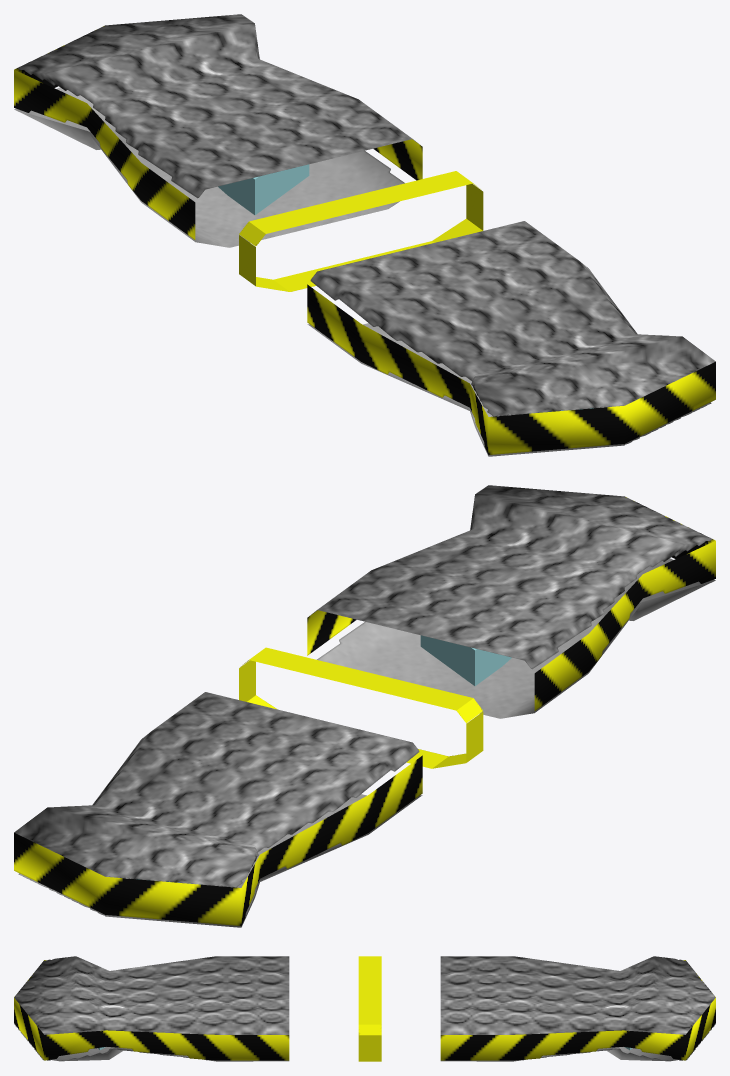
Rendered from platform.fbx.
The picture shows the model from 3 angles, top to bottom: view 1: azimuth 30°, elevation 25°; view 2: azimuth 150°, elevation 25°; view 3: azimuth 270°, elevation 25°; orthographic projection. The views are drawn at different scales.
Parts seen in each view (by area): view 1: RoadKillOut, polySurface2, pCylinder1; view 2: RoadKillOut, polySurface2, pCylinder1; view 3: RoadKillOut, polySurface2.
Part boxes in pixels (x1=…): RoadKillOut: x1=14, y1=14, x2=715, y2=456; polySurface2: x1=239, y1=171, x2=483, y2=291; pCylinder1: x1=218, y1=164, x2=309, y2=214; RoadKillOut: x1=14, y1=485, x2=715, y2=927; polySurface2: x1=239, y1=647, x2=483, y2=768; pCylinder1: x1=420, y1=635, x2=511, y2=685; RoadKillOut: x1=14, y1=956, x2=715, y2=1061; polySurface2: x1=358, y1=956, x2=381, y2=1061.
Size of the model in its own units: 1.64 by 0.631 by 6.51.
Materials: 3 (3 with a texture image).
